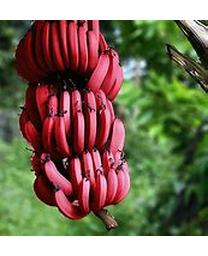banana: (15, 22, 133, 221)
